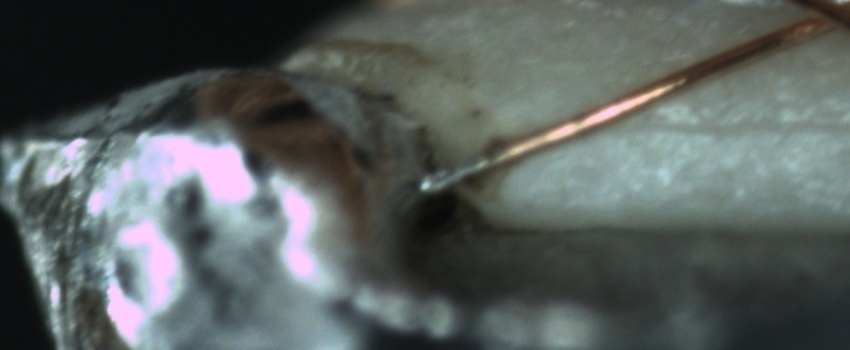CL: (770, 0, 847, 43)
DL: (612, 89, 847, 162)
TS: (408, 148, 500, 196)
